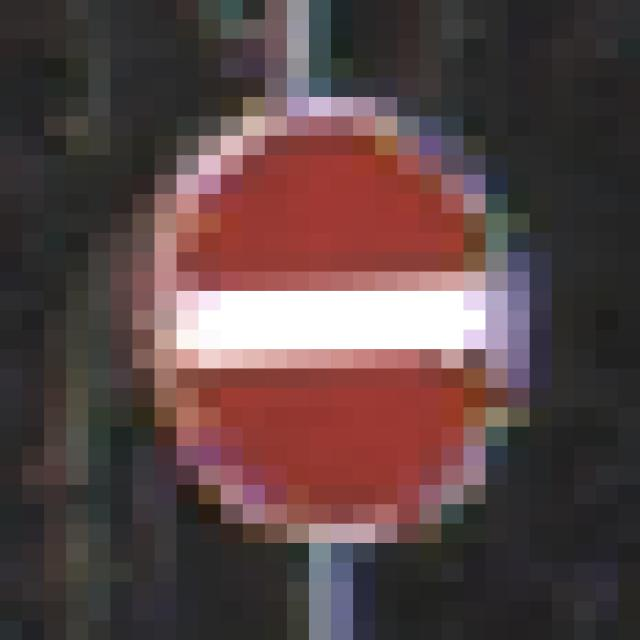No Entry: (134, 98, 531, 544)
